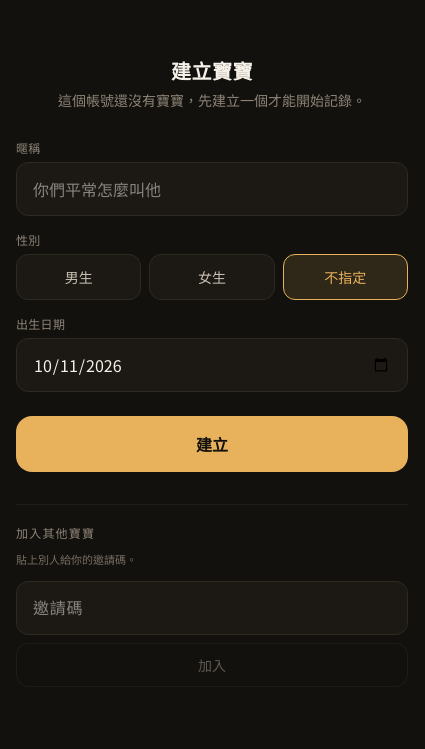
Test: an account with no baby yet › lets the parent edit again once the server says it refused
The image size is (425, 749).
Type "小葉" into the field labelled "暱稱" at x=212, y=189, box left=16, top=162, right=408, bottom=216
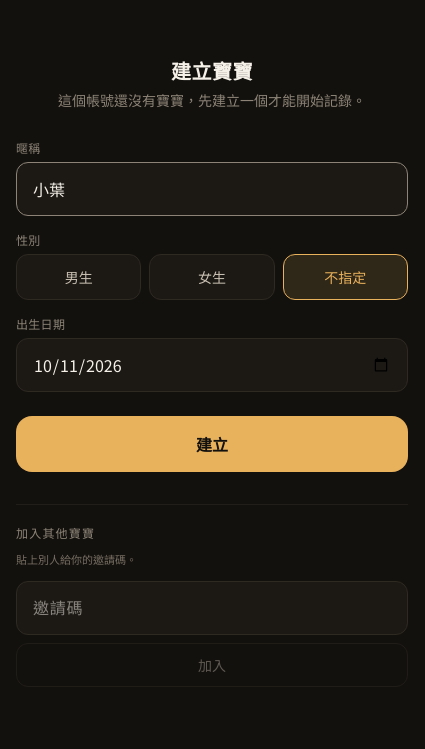
Click the button with test id "submit" at x=212, y=444, box left=16, top=416, right=408, bottom=472
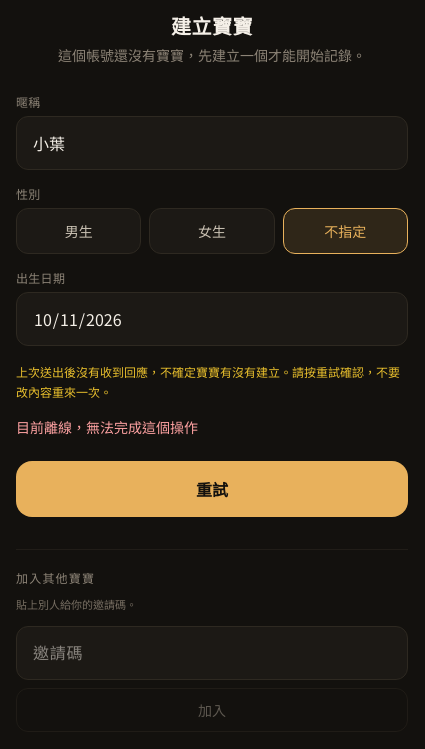
Check: the text "上次送出後沒有收到回應，不確定寶寶有沒有建立。請按重試確認，不要改內容重來一次。" is shown, box left=16, top=362, right=408, bottom=401
Click the button with test id "submit" at x=212, y=489, box left=16, top=461, right=408, bottom=517
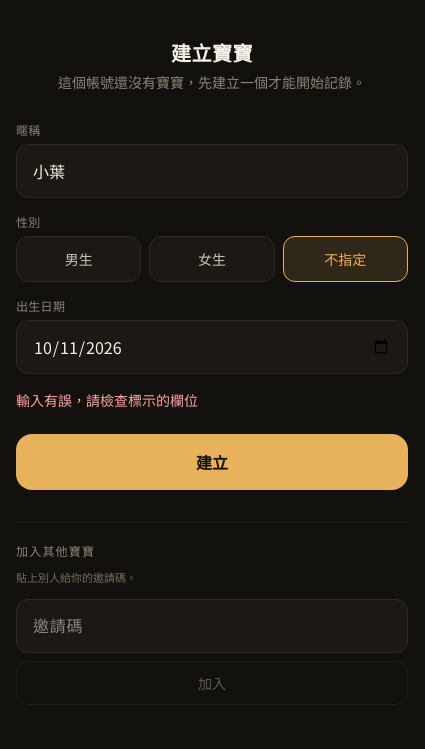
Check: the field labelled "暱稱" is enabled, box left=16, top=144, right=408, bottom=198
Check: the text with test id "outcome-unknown" is gone
